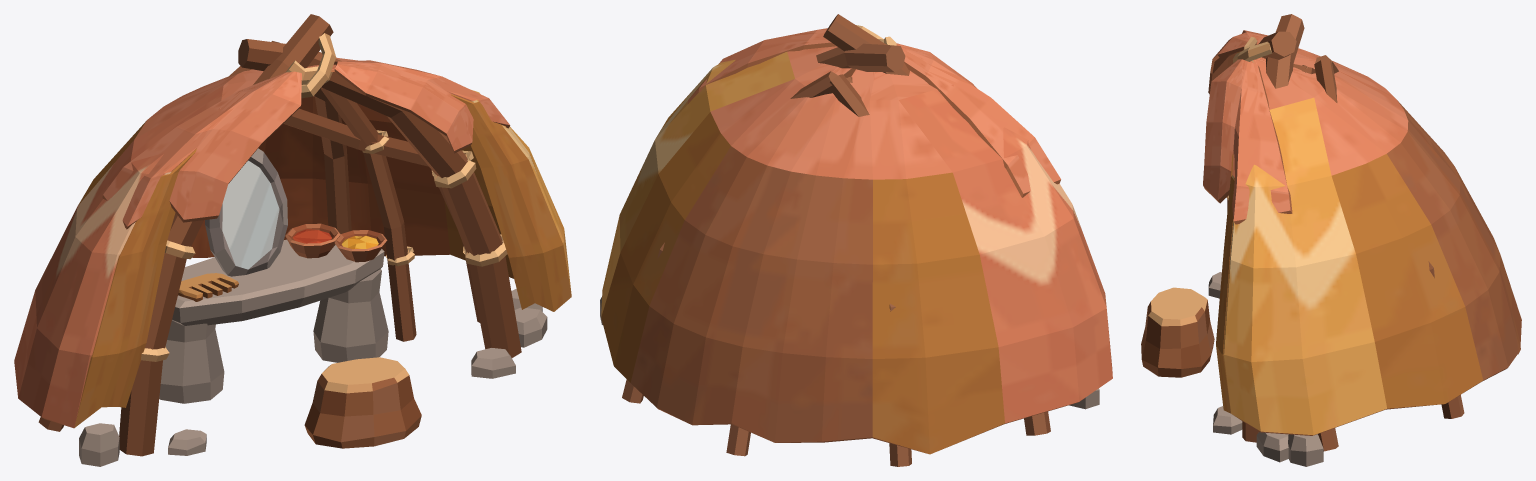
Rendered from Prehistoric_Beauty_Hut.glb.
3 renders of one model, left to right at view 1: azimuth 30°, elevation 25°; view 2: azimuth 150°, elevation 25°; view 3: azimuth 270°, elevation 25°, orthographic. The views are drawn at different scales.
Visible parts, largest first — view 1: Prehistoric Beauty Hut; view 2: Prehistoric Beauty Hut; view 3: Prehistoric Beauty Hut.
Part boxes in pixels (x1,y1,x2,y2): Prehistoric Beauty Hut: (14, 14, 571, 466); Prehistoric Beauty Hut: (600, 14, 1112, 466); Prehistoric Beauty Hut: (1141, 14, 1521, 466).
Bounding box in the file's own units: 7.08 × 4.79 × 4.94.
2 materials, 2 textured.
